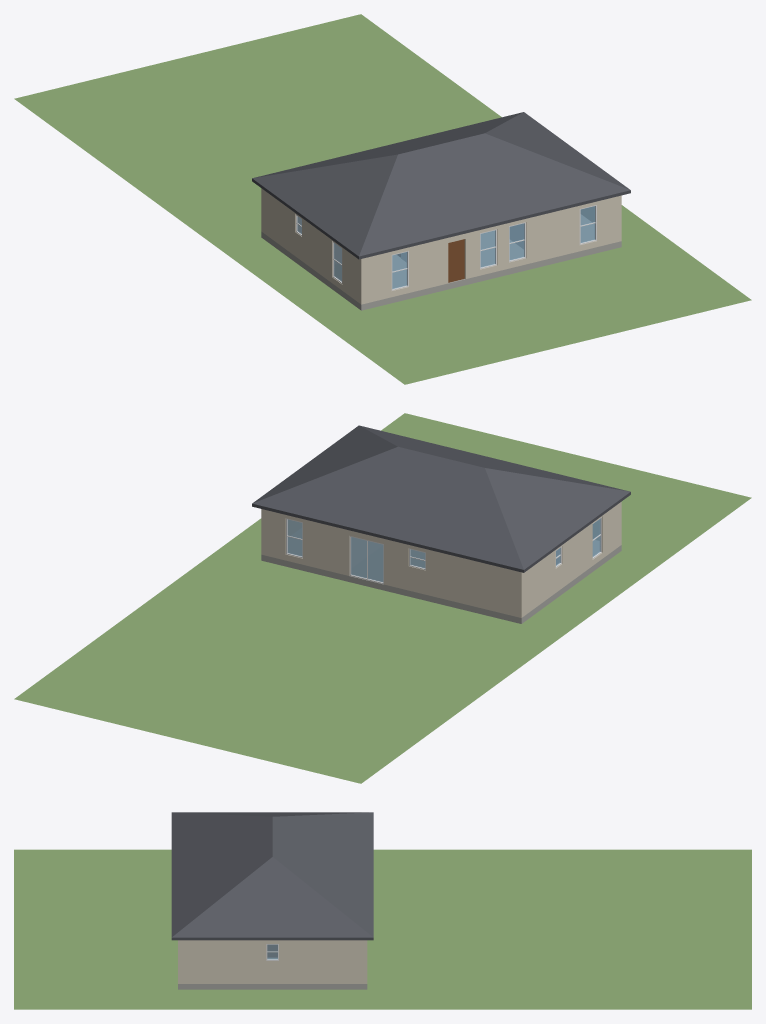
3 renders of one model, top to bottom at view 1: azimuth 30°, elevation 25°; view 2: azimuth 150°, elevation 25°; view 3: azimuth 270°, elevation 25°, orthographic. The views are drawn at different scales.
Parts seen in each view (by area): view 1: SITE, ROOF, ext-front, SLAB-L1, ext-left, D01; view 2: SITE, ROOF, ext-back, ext-left, SLAB-L1, D02; view 3: SITE, ROOF, ext-right, SLAB-L1.
Boxes of the visible parts, bbox=[...] form: SITE: bbox=[14, 14, 751, 384]; ROOF: bbox=[252, 112, 630, 259]; ext-front: bbox=[359, 195, 621, 304]; SLAB-L1: bbox=[261, 215, 621, 310]; ext-left: bbox=[263, 189, 359, 302]; D01: bbox=[448, 239, 464, 282]; SITE: bbox=[14, 413, 751, 783]; ROOF: bbox=[252, 425, 630, 572]; ext-back: bbox=[261, 509, 523, 617]; ext-left: bbox=[523, 503, 619, 616]; SLAB-L1: bbox=[261, 528, 621, 623]; D02: bbox=[351, 537, 383, 582]; SITE: bbox=[14, 849, 751, 1009]; ROOF: bbox=[171, 812, 373, 940]; ext-right: bbox=[181, 940, 363, 983]; SLAB-L1: bbox=[178, 958, 367, 989].
Bounding box in the file's own units: 18.29 × 4.95 × 35.66.
